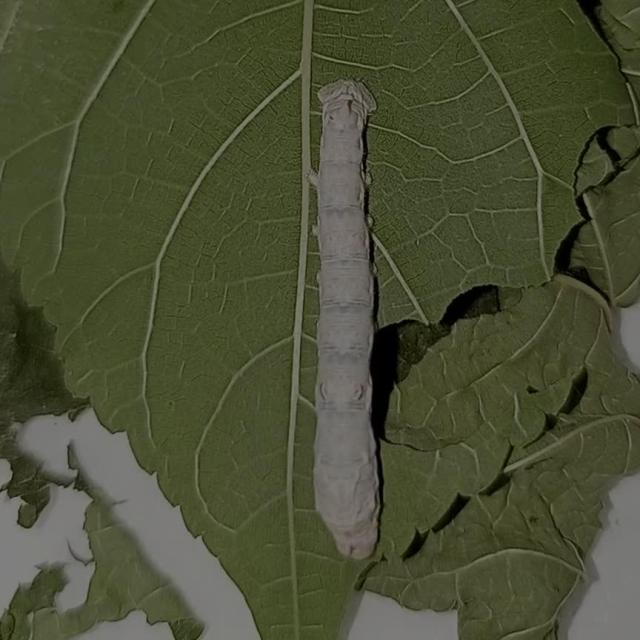Healthy: (263, 61, 425, 582)
